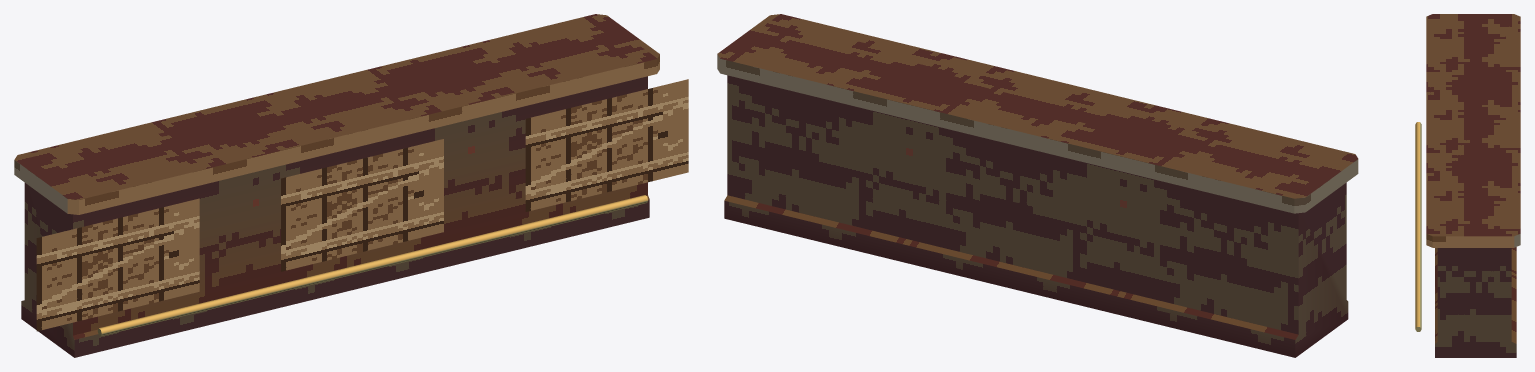
Rendered from wprop.bar.glb.
3 views of the same model, side by side, from view 1: azimuth 30°, elevation 25°; view 2: azimuth 150°, elevation 25°; view 3: azimuth 270°, elevation 25° (orthographic). The views are drawn at different scales.
Parts seen in each view (by area): view 1: kit_card_panels, kit_top, kit_body, kit_rail; view 2: kit_body, kit_top; view 3: kit_top, kit_body, kit_rail.
Part boxes in pixels (<box>): kit_card_panels: <box>36,79,688,331</box>; kit_top: <box>14,14,659,214</box>; kit_body: <box>21,76,649,357</box>; kit_rail: <box>97,195,648,335</box>; kit_body: <box>724,75,1348,357</box>; kit_top: <box>717,14,1358,213</box>; kit_top: <box>1426,14,1520,247</box>; kit_body: <box>1435,247,1516,357</box>; kit_rail: <box>1415,122,1421,331</box>.
Size of the model in its own units: 4.53 by 1.08 by 0.825.
Materials: 4 (3 with a texture image).
